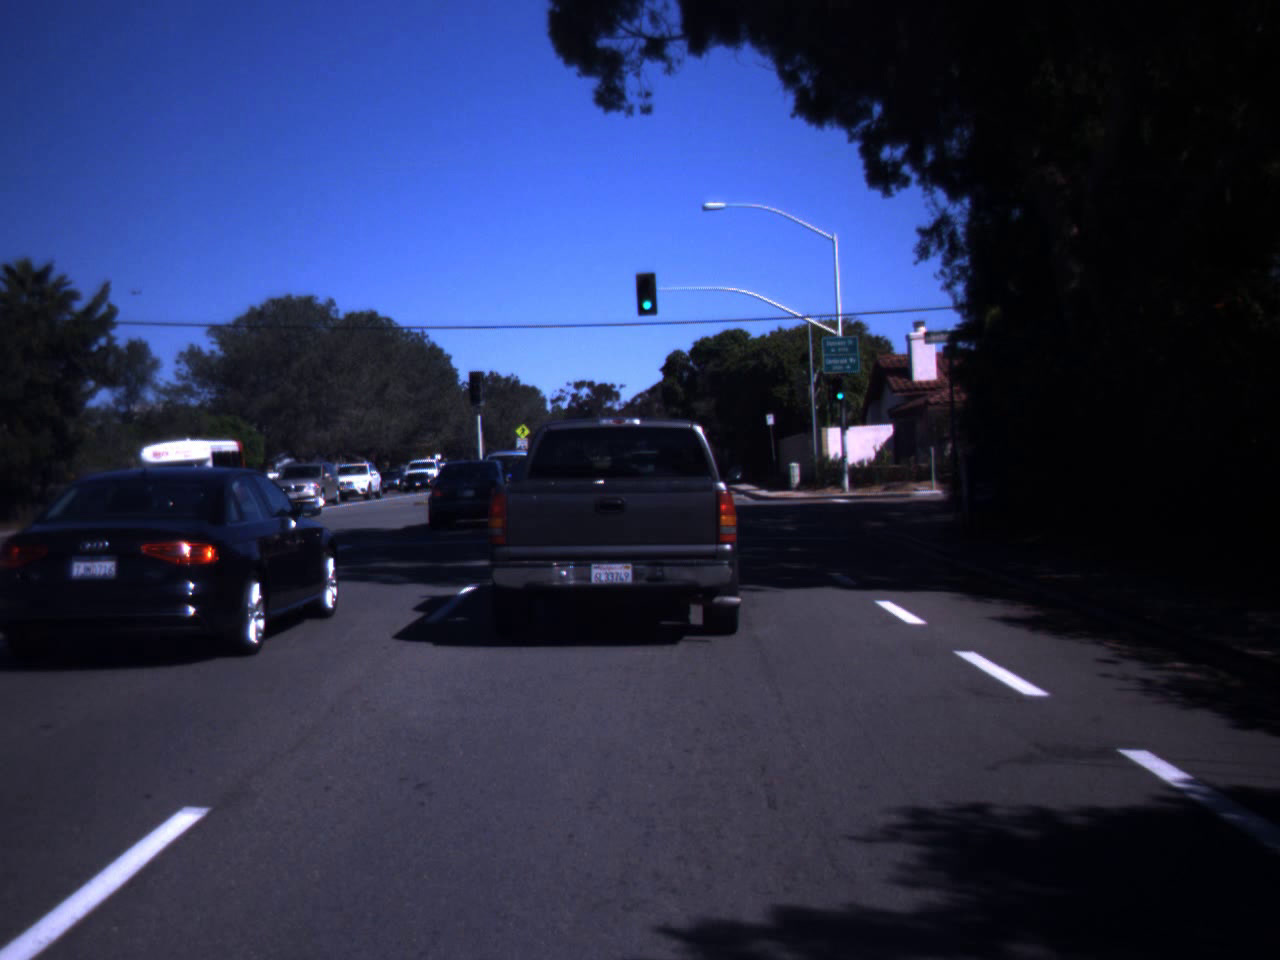go: (638, 277, 656, 312), (834, 380, 846, 400)
